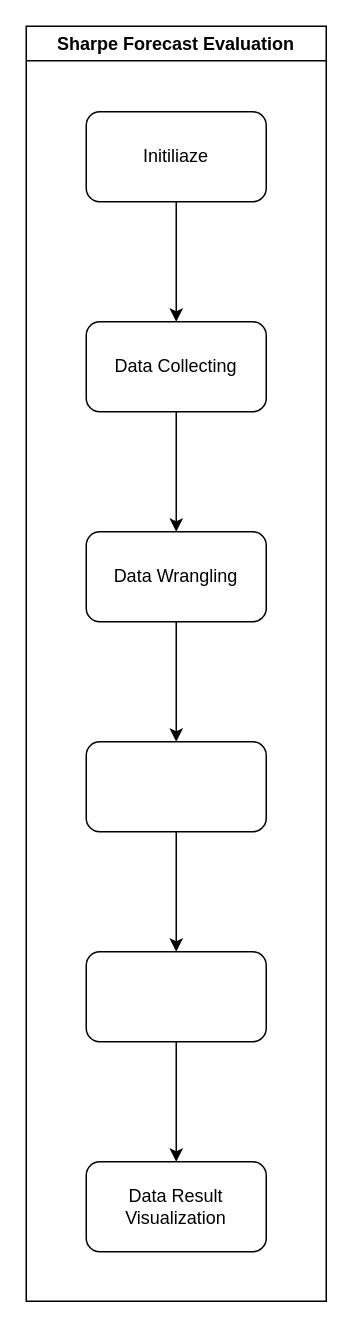
Some shapes in this 353 by 1328 pixel diagram are drawn without their labels. Each missing label, with the centre of its shape:
"Data Result Analysis" belongs at (x=175, y=996).
"Optimizer Modelling" belongs at (x=175, y=786).
